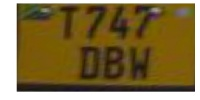T: (56, 4, 82, 41)
